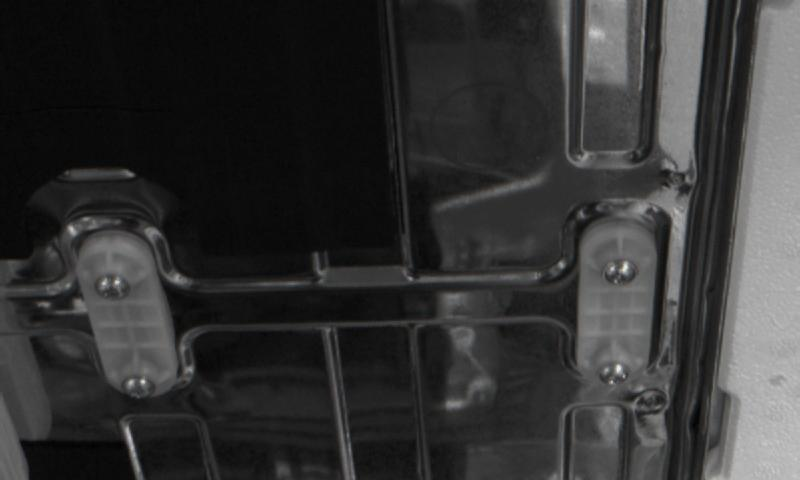vida-ok: (108, 366, 162, 404), (592, 348, 639, 391), (84, 265, 131, 306), (606, 253, 646, 298)
